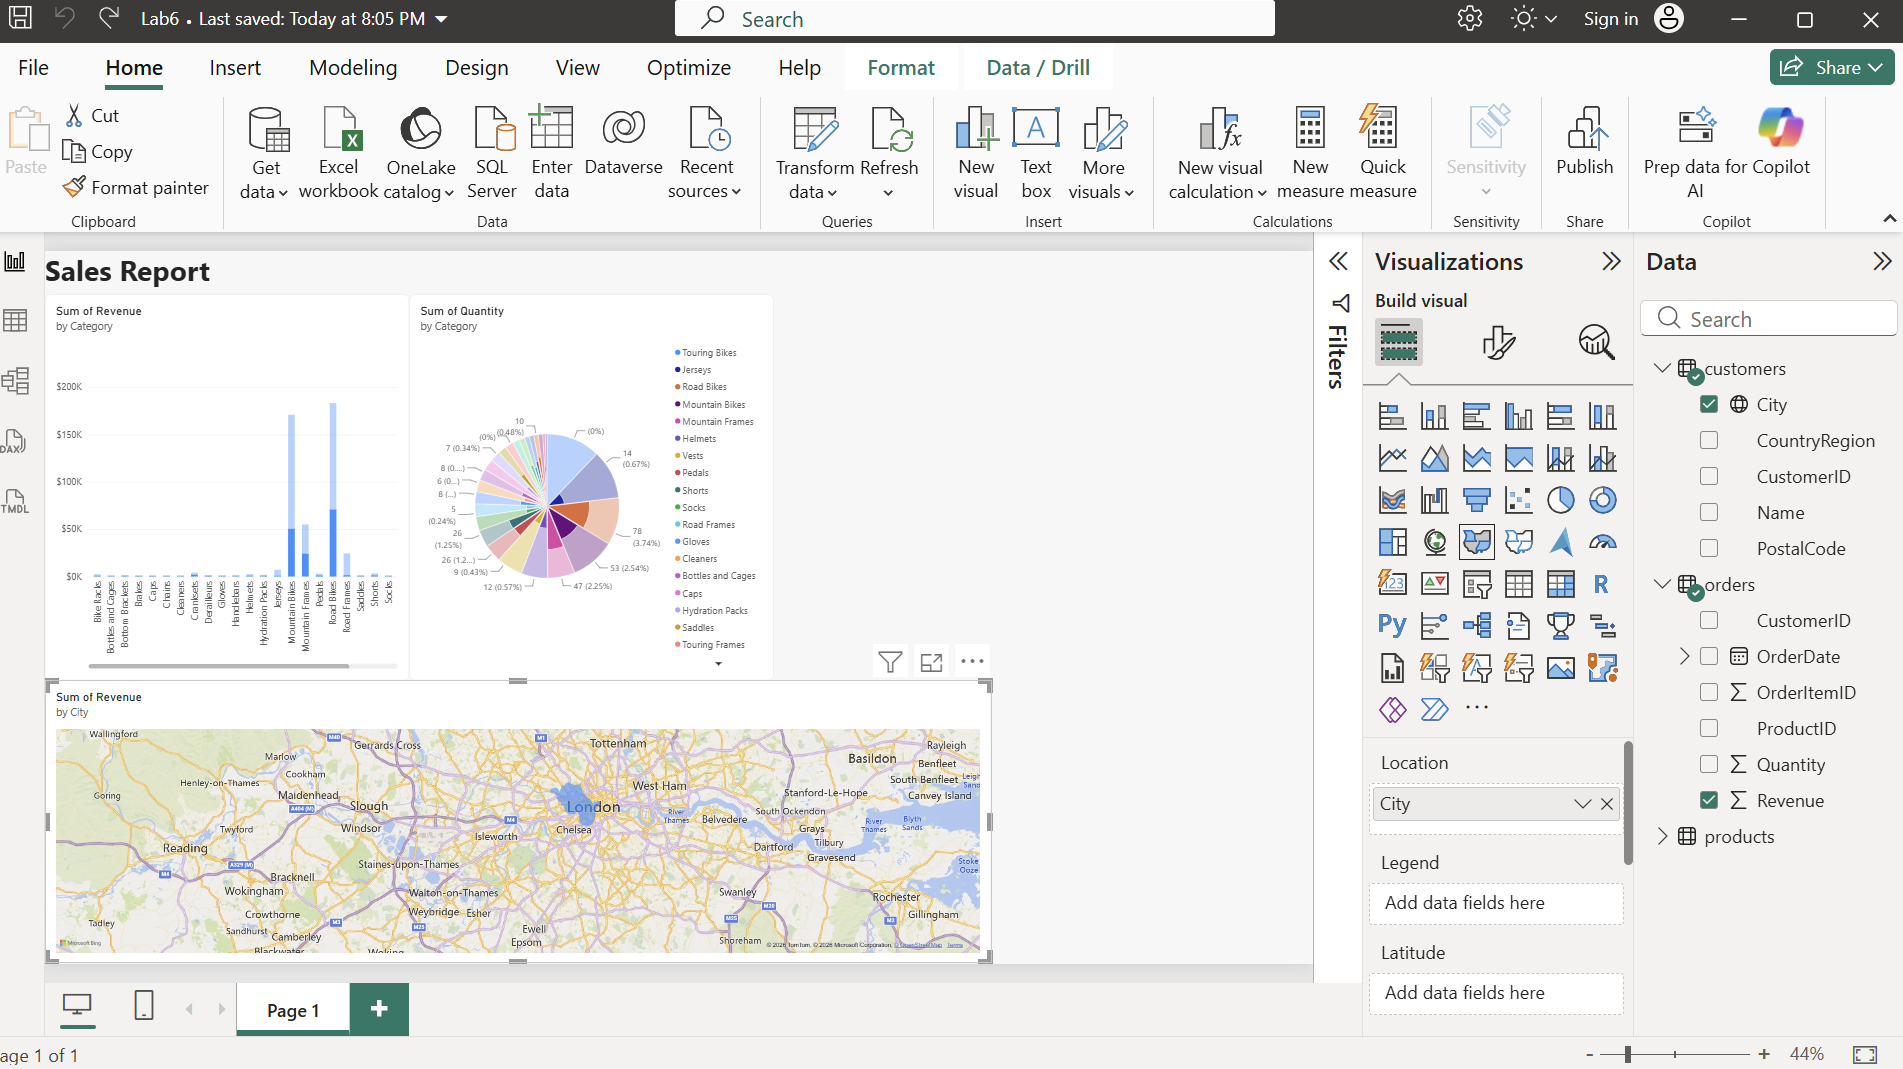

This screenshot's page, from the dashboard's own definition file:
{"tool":"powerbi","page":{"name":"Page 1","canvas":[1920,1080],"ordinal":0},"visuals":[{"type":"textbox","box":[0,0,351.5,87.9],"z":0},{"type":"columnChart","fields":{"Category":["products.Categorized Product.Category","products.Categorized Product.ProductName"],"Y":["Sum(orders.Revenue)"]},"box":[0,65.7,551.4,584.3],"z":1000},{"type":"pieChart","fields":{"Category":["products.Category"],"Y":["Sum(orders.Quantity)"]},"box":[552.9,65.7,551.4,584.3],"z":2000},{"type":"filledMap","fields":{"Category":["customers.City"]},"box":[0,650,1432.5,430],"z":3000}]}

Visuals, with their boxes on the page's 1920x1080 design canvas (x1, y1, x2, y2). These are canvas units, not pixel positions in the 1903x1069 screenshot, which may show the page scaled, cropped or inside an application window:
textbox: <bbox>0, 0, 352, 88</bbox>
columnChart - products.Categorized Product.Category x products.Categorized Product.ProductName: <bbox>0, 66, 551, 650</bbox>
pieChart - products.Category x Sum(orders.Quantity): <bbox>553, 66, 1104, 650</bbox>
filledMap - customers.City: <bbox>0, 650, 1432, 1080</bbox>
